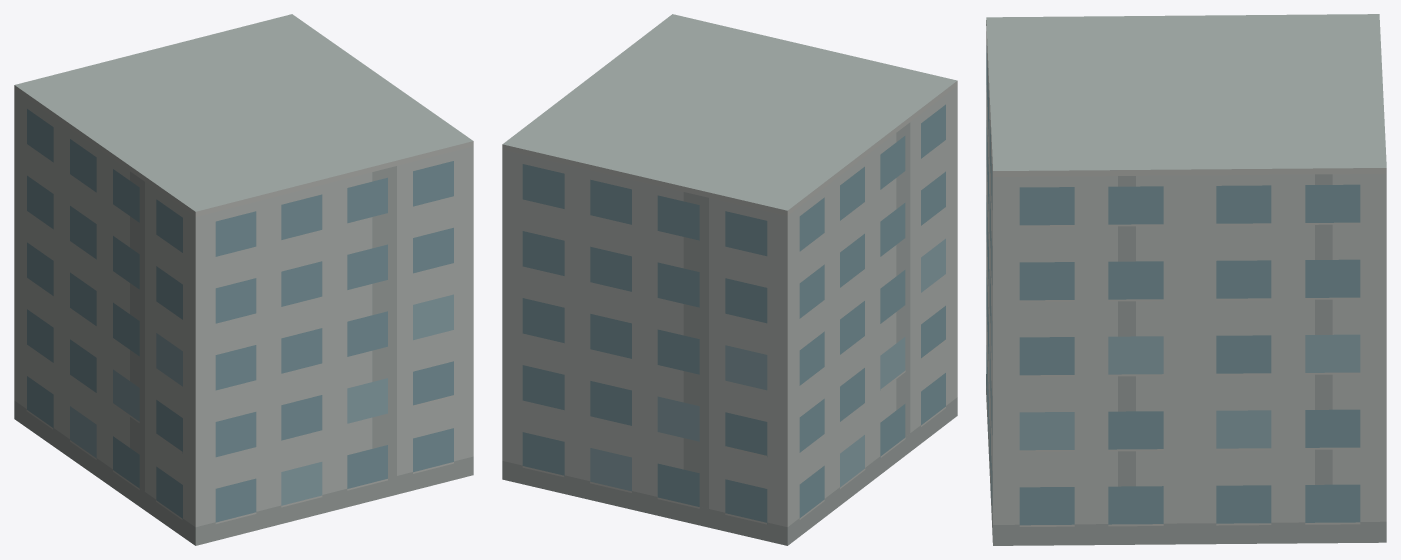
Rendered from residential-7ea77f85-50bf-4a80-904b-7d419ac62fde.glb.
3 renders of one model, left to right at view 1: azimuth 30°, elevation 25°; view 2: azimuth 150°, elevation 25°; view 3: azimuth 270°, elevation 25°, orthographic. The views are drawn at different scales.
Visible parts, largest first — view 1: residential-7ea77f85-50bf-4a80-904b-7d419ac62fde.tmp; view 2: residential-7ea77f85-50bf-4a80-904b-7d419ac62fde.tmp; view 3: residential-7ea77f85-50bf-4a80-904b-7d419ac62fde.tmp.
Boxes of the visible parts, x1,y1,x2,y2 form: residential-7ea77f85-50bf-4a80-904b-7d419ac62fde.tmp: [14, 14, 473, 545]; residential-7ea77f85-50bf-4a80-904b-7d419ac62fde.tmp: [502, 14, 957, 545]; residential-7ea77f85-50bf-4a80-904b-7d419ac62fde.tmp: [986, 14, 1386, 545].
Size of the model in its own units: 13.72 by 15.25 by 14.78.
